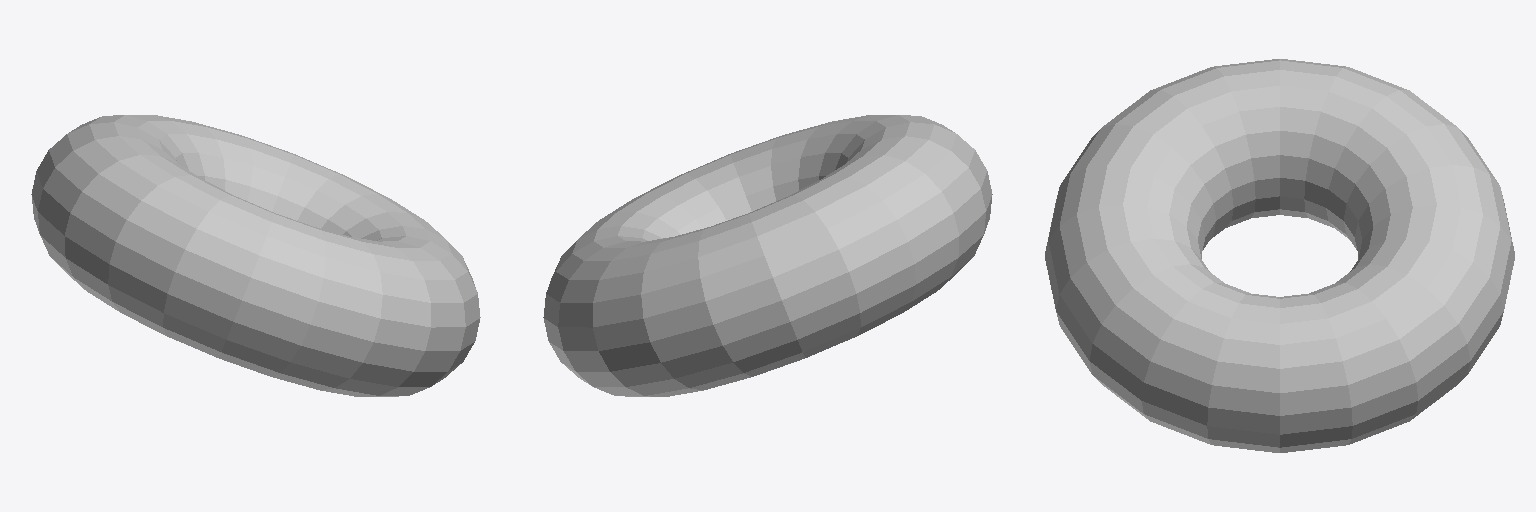
File: donut.obj
3 views of the same model, side by side, from view 1: azimuth 30°, elevation 25°; view 2: azimuth 150°, elevation 25°; view 3: azimuth 270°, elevation 25° (orthographic).
Size of the model in its own units: 2.81 by 1.82 by 3.